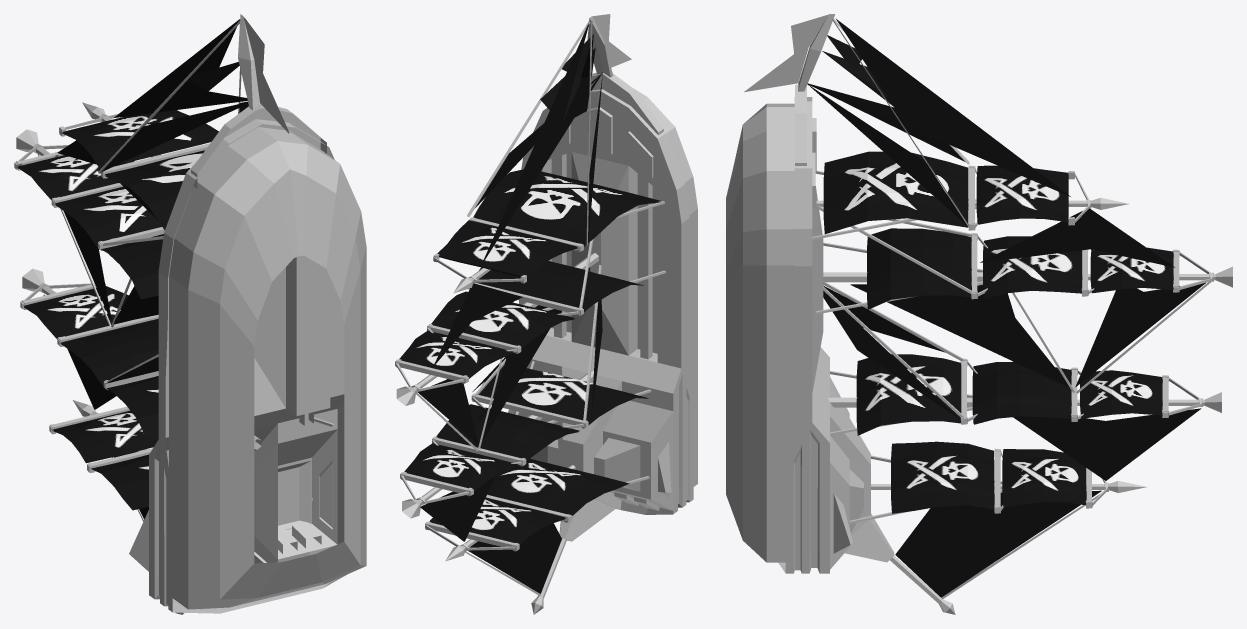
File: main_7_2.fbx
3 renders of one model, left to right at view 1: azimuth 30°, elevation 25°; view 2: azimuth 150°, elevation 25°; view 3: azimuth 270°, elevation 25°, orthographic. The views are drawn at different scales.
Parts seen in each view (by area): view 1: Cube.607; view 2: Cube.607; view 3: Cube.607.
Part boxes in pixels (bbox=[...]): Cube.607: bbox=[14, 14, 366, 614]; Cube.607: bbox=[395, 14, 697, 614]; Cube.607: bbox=[726, 14, 1232, 614].
Size of the model in its own units: 625 by 1868 by 1427.
